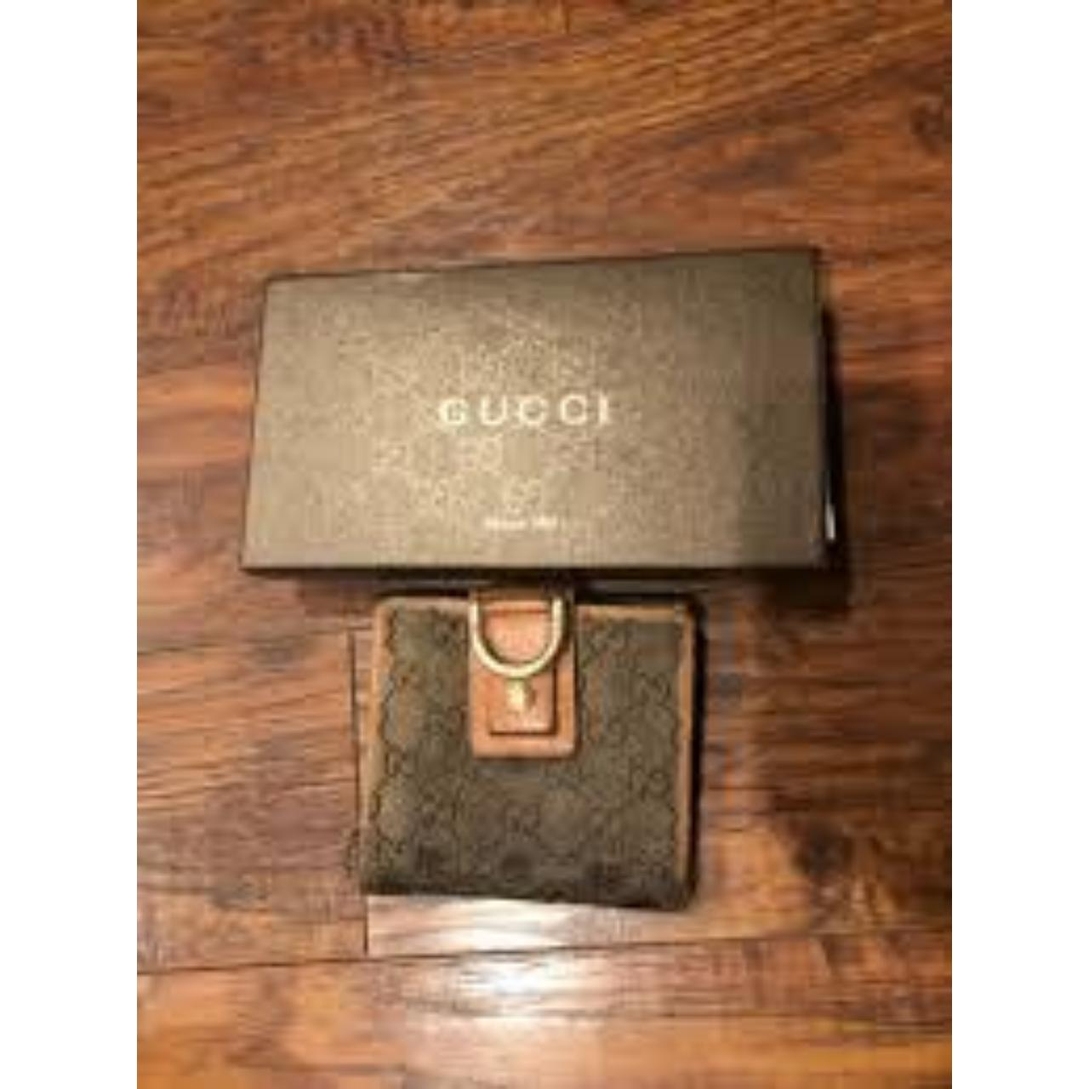wallet: (346, 563, 782, 904)
